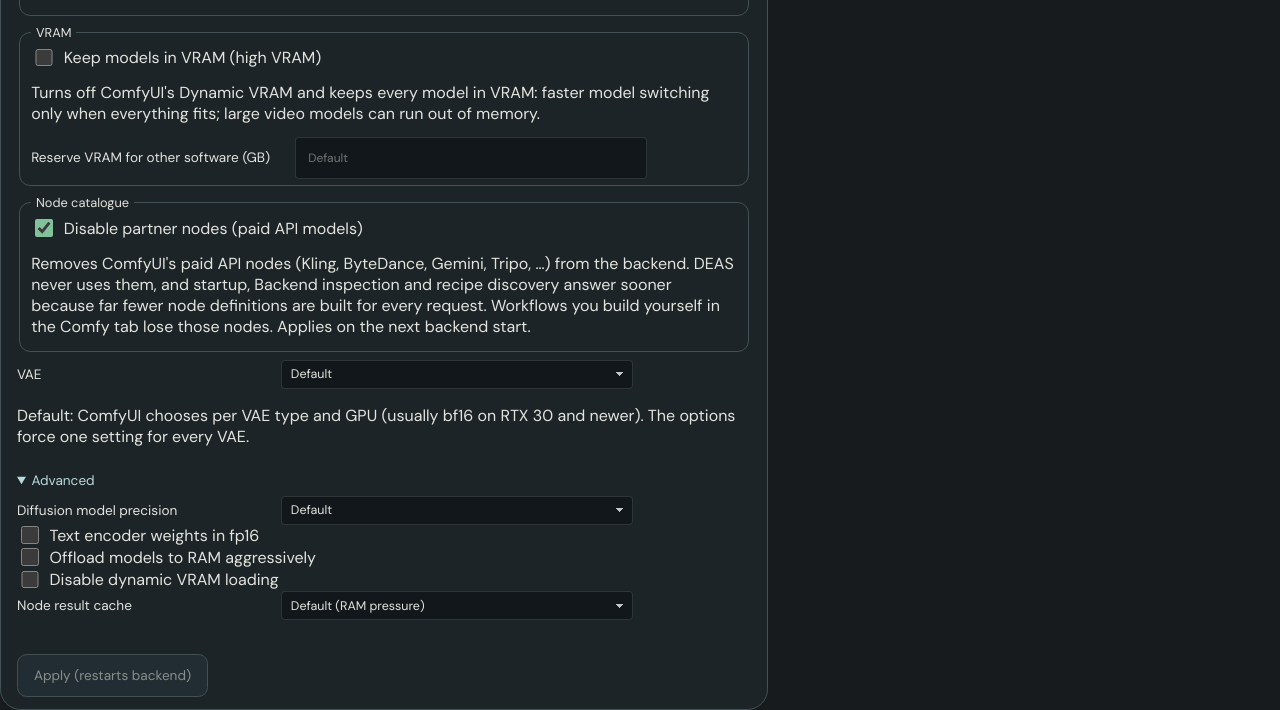
Test: indexes every Startup optimization so global search finds each backend option
This screenshot has width=1280, height=710.
(page scrolled)
The LRU size field only exists in LRU cache mode, like in the app itself.
Select "LRU with a fixed size" in the dropdown labelled "Node result cache". click: (457, 606)
box: [281,591,633,620]
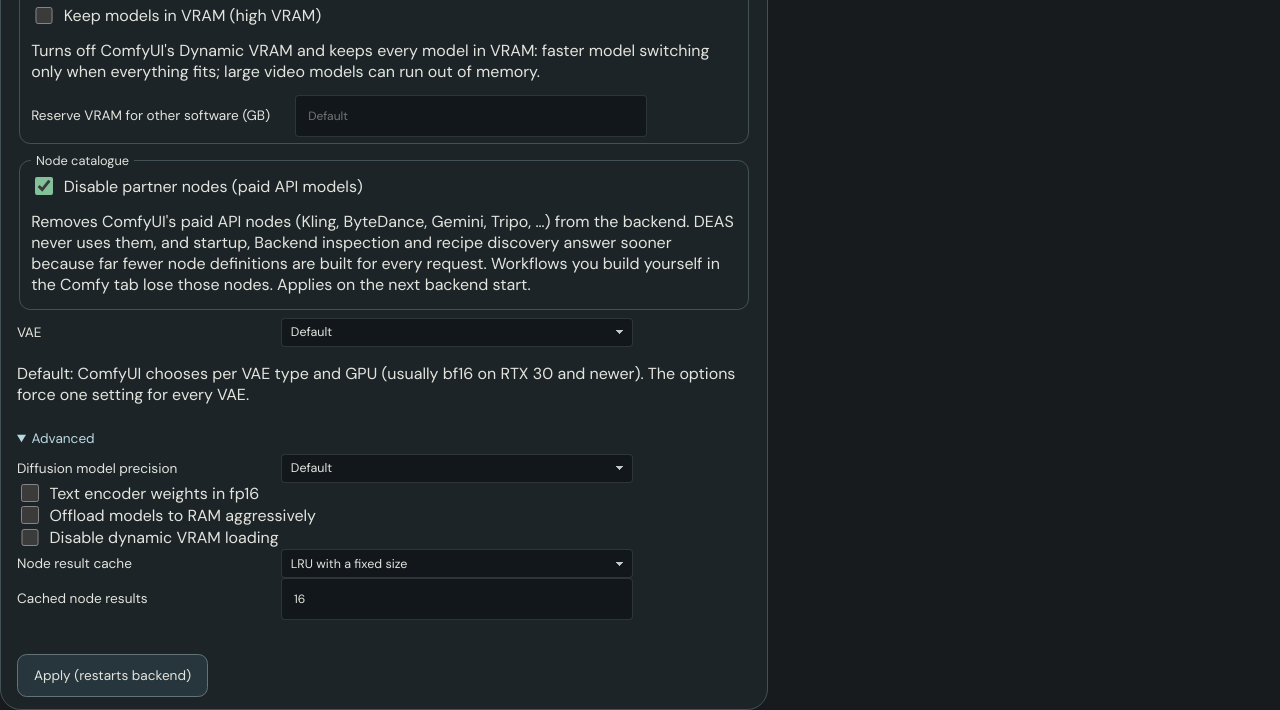
Expected: the element that starts with "Node catalogue" is shown, [19,152,749,310]
Result: the label "Cached node results" is shown at [17,578,633,620]
